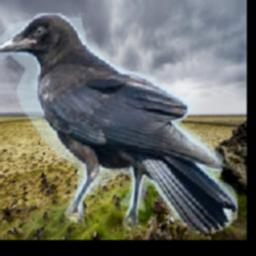Crow: (0, 14, 238, 234)
